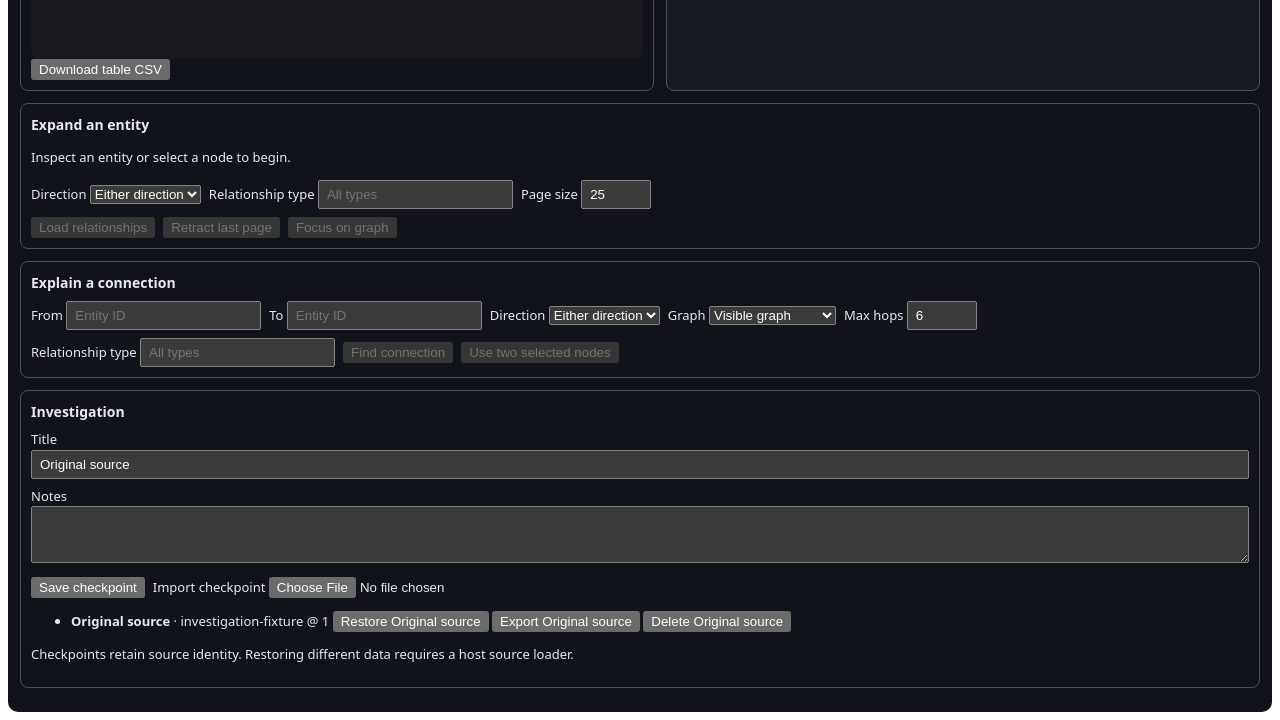
Test: GraphExplorer investigation journeys › shows source mismatches without restoring unrelated data
(page scrolled)
Click the button "Restore Original source" at (411, 621), box [333,611,489,632]
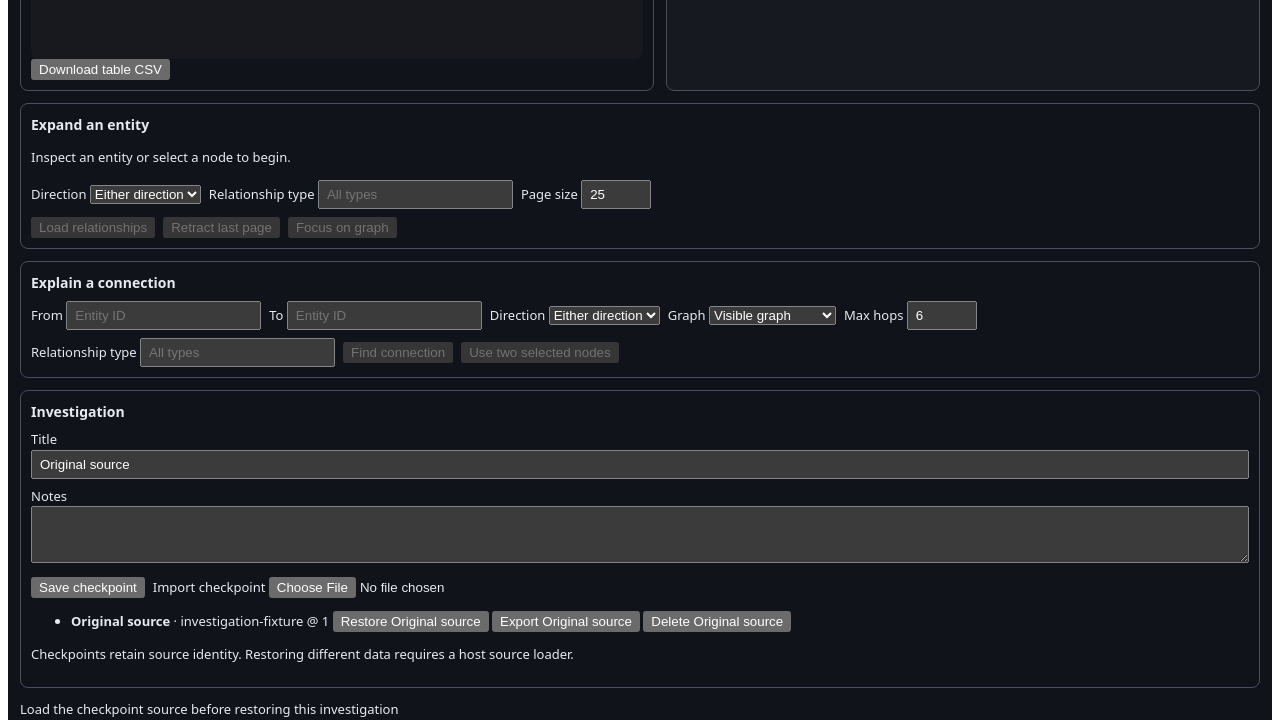
Result: the message shows "source" at [20,700,398,718]
